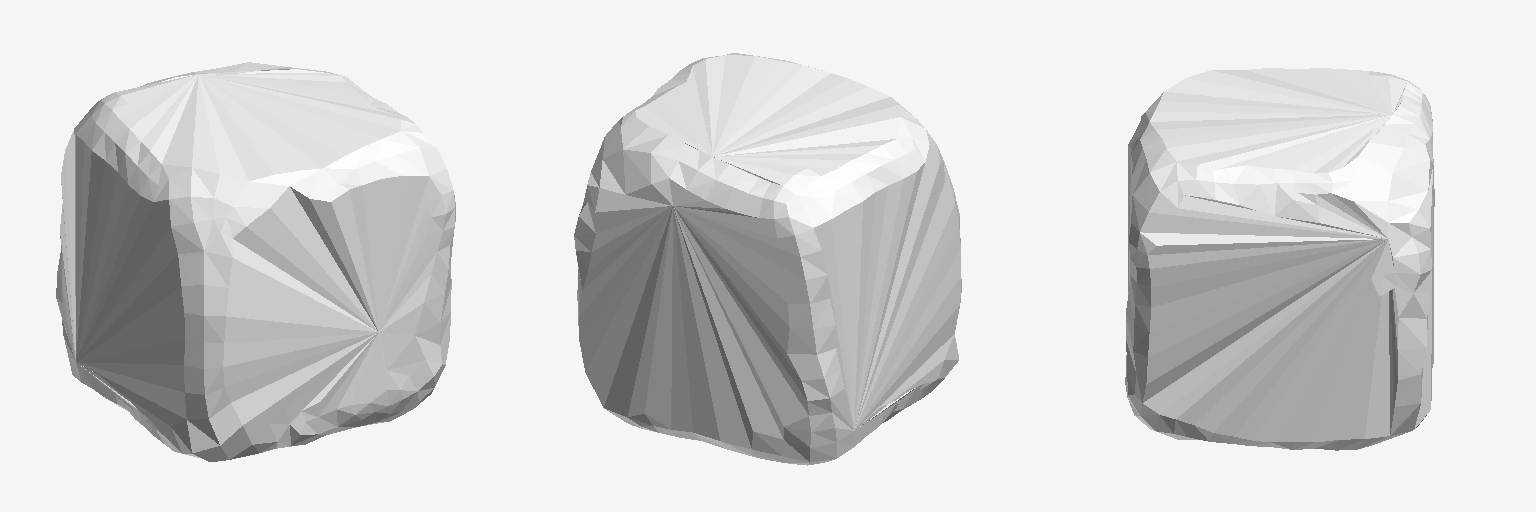
The model's file is Brick03.Obj.
3 renders of one model, left to right at view 1: azimuth 30°, elevation 25°; view 2: azimuth 150°, elevation 25°; view 3: azimuth 270°, elevation 25°, orthographic.
Parts seen in each view (by area): view 1: Volume4; view 2: Volume4; view 3: Volume4.
Boxes of the visible parts, box(x1,y1,x2,y2) form: Volume4: box(56, 62, 455, 461); Volume4: box(574, 53, 961, 465); Volume4: box(1125, 68, 1434, 450).
Bounding box in the file's own units: 110 × 111 × 110.